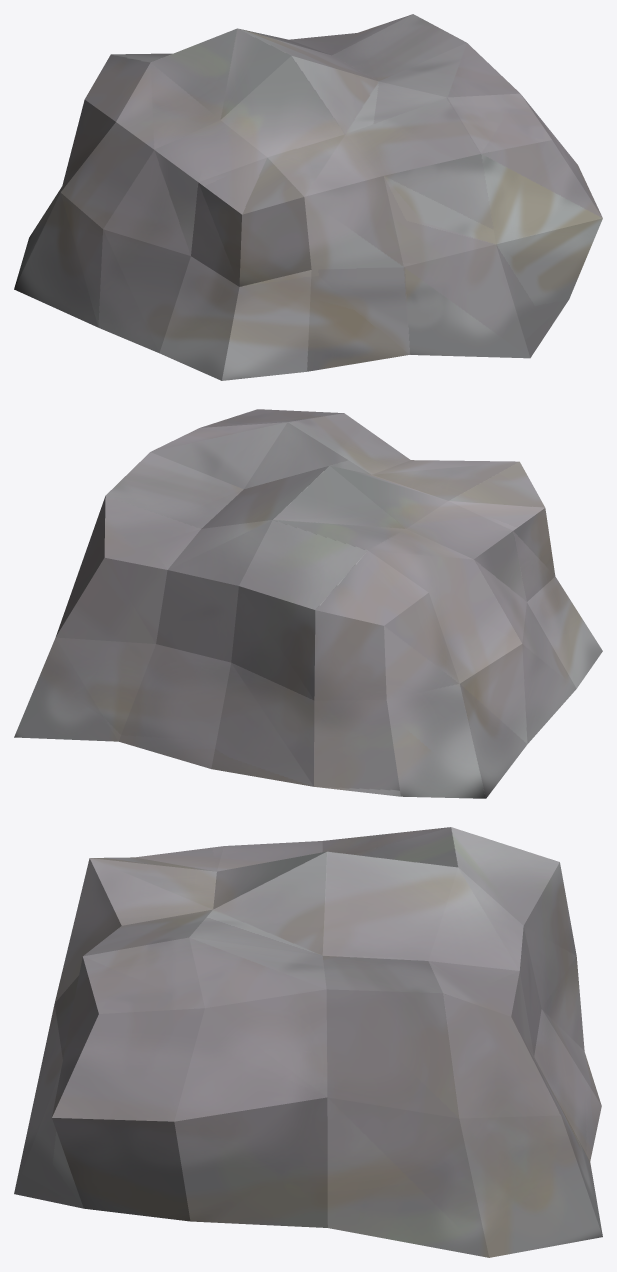
Rendered from Rock 5.19.fbx.
3 renders of one model, top to bottom at view 1: azimuth 30°, elevation 25°; view 2: azimuth 150°, elevation 25°; view 3: azimuth 270°, elevation 25°, orthographic. The views are drawn at different scales.
Visible parts, largest first — view 1: Cube; view 2: Cube; view 3: Cube.
Boxes of the visible parts, x1,y1,x2,y2 form: Cube: (14, 14, 602, 380); Cube: (14, 409, 602, 798); Cube: (14, 827, 602, 1257).
Bounding box in the file's own units: 455 × 232 × 442.
